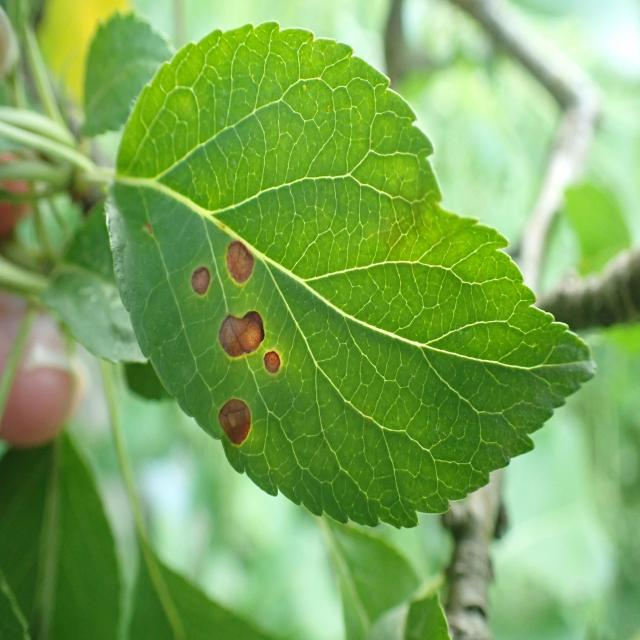Black Rot: (208, 386, 276, 463), (213, 295, 272, 377), (210, 232, 266, 290), (181, 243, 216, 313), (261, 348, 285, 396)
